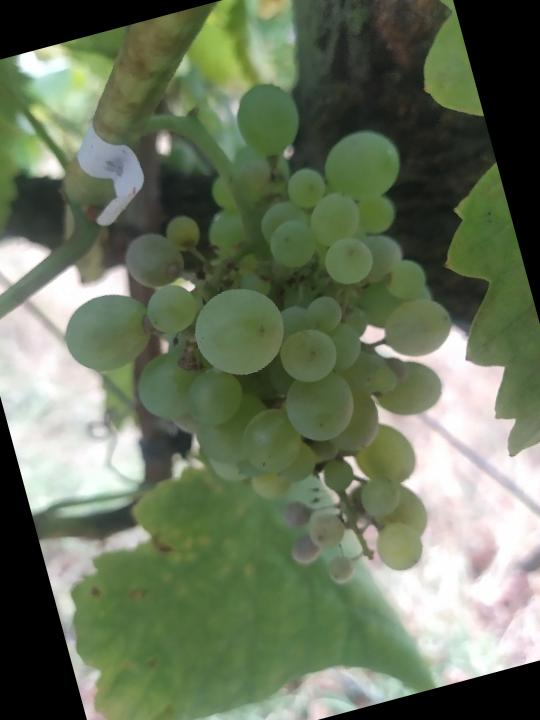grape: (11, 51, 510, 645)
